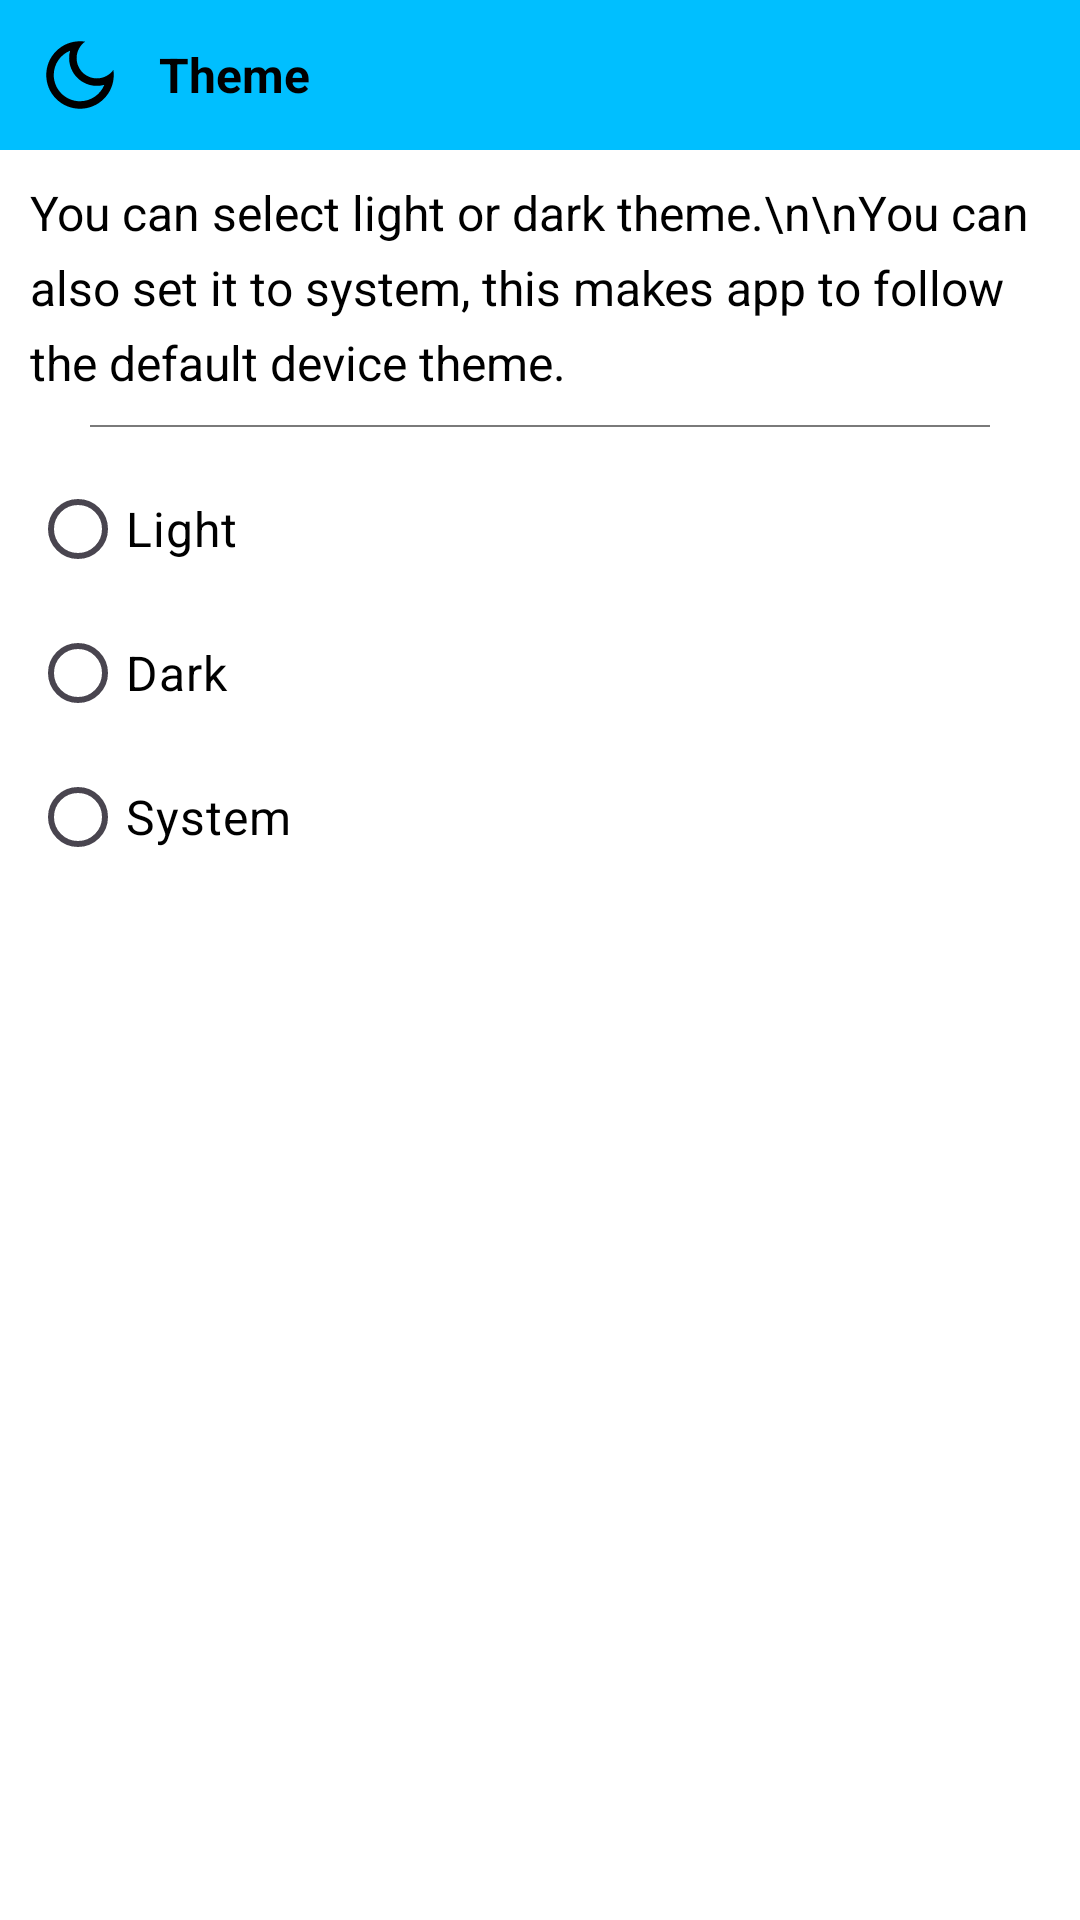

Screen size 1080×1920. Icon name, then its center in pixels as (x,y):
moon: (80,75)
